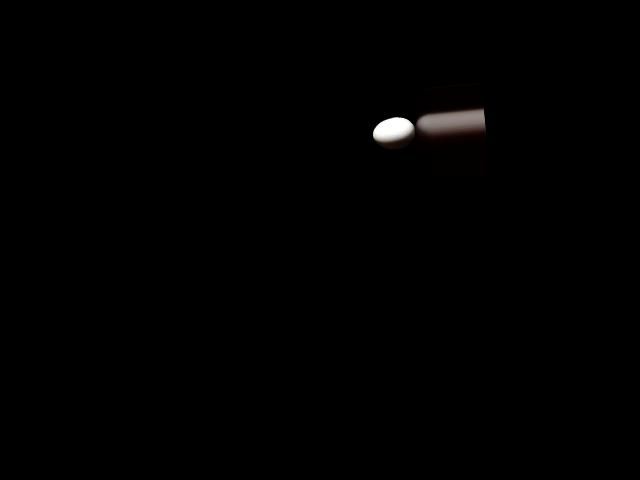egg: (371, 115, 417, 150)
